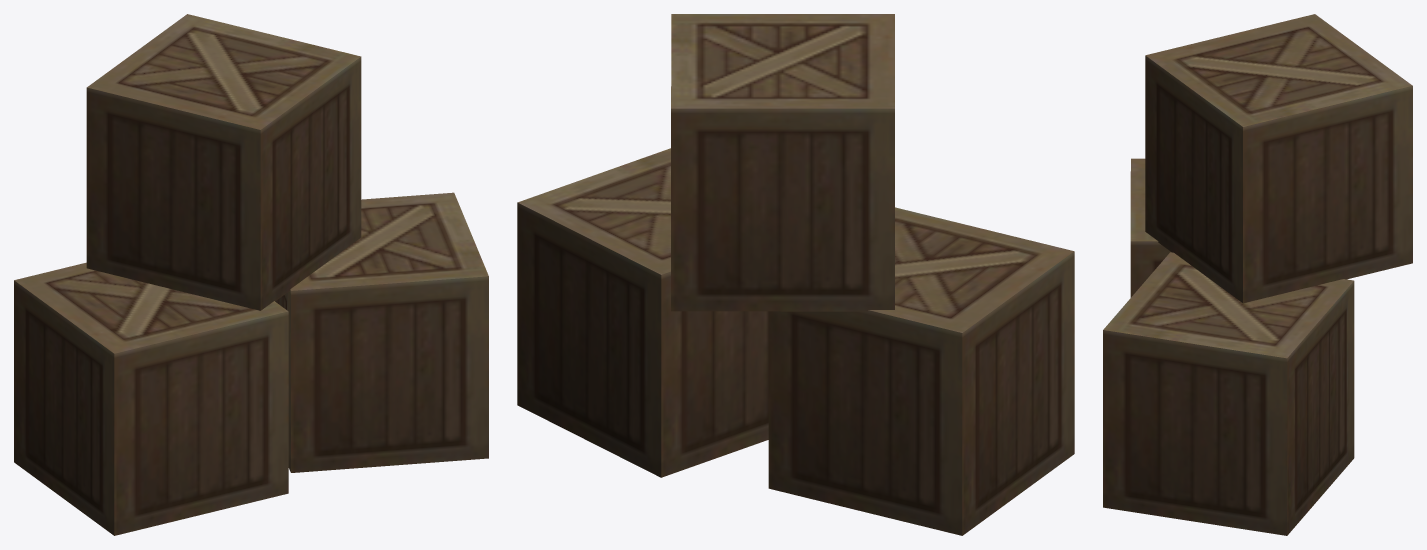
File: GZ_Xsc_xiangzi_02_D.FBX
3 renders of one model, left to right at view 1: azimuth 30°, elevation 25°; view 2: azimuth 150°, elevation 25°; view 3: azimuth 270°, elevation 25°, orthographic. The views are drawn at different scales.
Visible parts, largest first — view 1: GZ_Xsc_xiangzi_02_D; view 2: GZ_Xsc_xiangzi_02_D; view 3: GZ_Xsc_xiangzi_02_D.
Boxes of the visible parts, left/top/right/bottom form: GZ_Xsc_xiangzi_02_D: left=14, top=14, right=488, bottom=535; GZ_Xsc_xiangzi_02_D: left=517, top=14, right=1074, bottom=535; GZ_Xsc_xiangzi_02_D: left=1103, top=14, right=1412, bottom=535.
Size of the model in its own units: 2.76 by 2.28 by 1.81.
